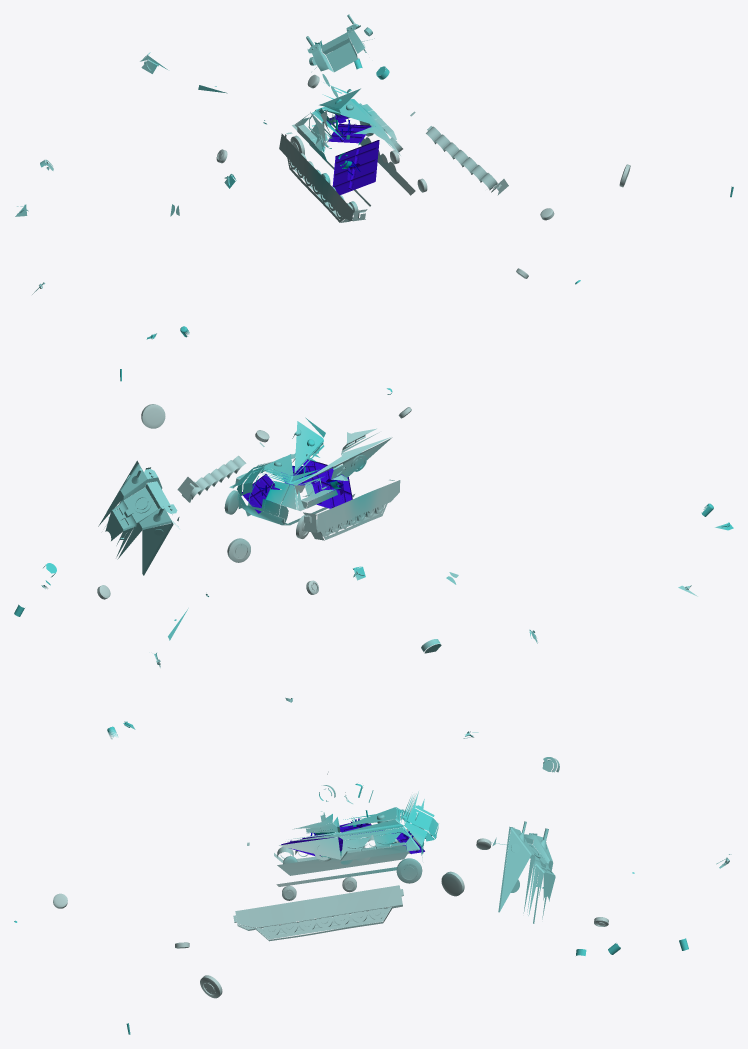
Rendered from trooptransport_wreck.glb.
3 renders of one model, top to bottom at view 1: azimuth 30°, elevation 25°; view 2: azimuth 150°, elevation 25°; view 3: azimuth 270°, elevation 25°, orthographic. The views are drawn at different scales.
Visible parts, largest first — view 1: heavy_apc, wrecked_track_r, heavy_apc_cab, frame, wrecked_track_l; view 2: heavy_apc_cab, heavy_apc, wrecked_track_r, heavy_apc_plate (×2), wrecked_track_l, frame, wrecked_wheel_l0; view 3: heavy_apc, wrecked_track_l, heavy_apc_cab, heavy_apc_plate.
Boxes of the visible parts, x1,y1,x2,y2 form: heavy_apc: [292, 99, 415, 206]; wrecked_track_r: [279, 132, 367, 222]; heavy_apc_cab: [306, 14, 374, 97]; frame: [332, 140, 379, 195]; wrecked_track_l: [410, 111, 508, 195]; heavy_apc_cab: [98, 460, 179, 575]; heavy_apc: [229, 447, 354, 525]; wrecked_track_r: [303, 479, 400, 540]; heavy_apc_plate (×2): [292, 417, 392, 483]; wrecked_track_l: [177, 442, 264, 502]; frame: [303, 459, 352, 508]; wrecked_wheel_l0: [141, 404, 165, 428]; heavy_apc: [276, 807, 424, 886]; wrecked_track_l: [233, 885, 403, 941]; heavy_apc_cab: [491, 821, 555, 923]; heavy_apc_plate: [402, 791, 438, 845].
Bounding box in the file's own units: 32.21 × 5.12 × 29.37.
